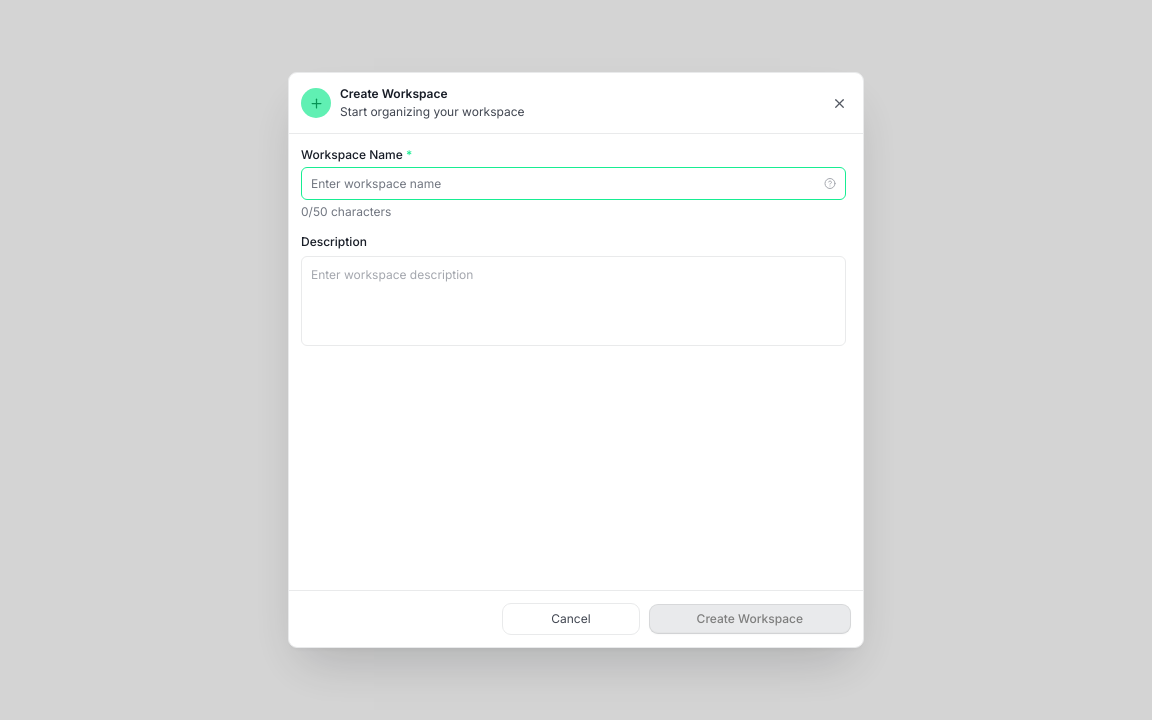
Test: CreateWorkspaceModal › form validation › shows validation error for short name
Type "AB" into the field labelled "Workspace Name *" at (573, 184), box [301,167,846,200]
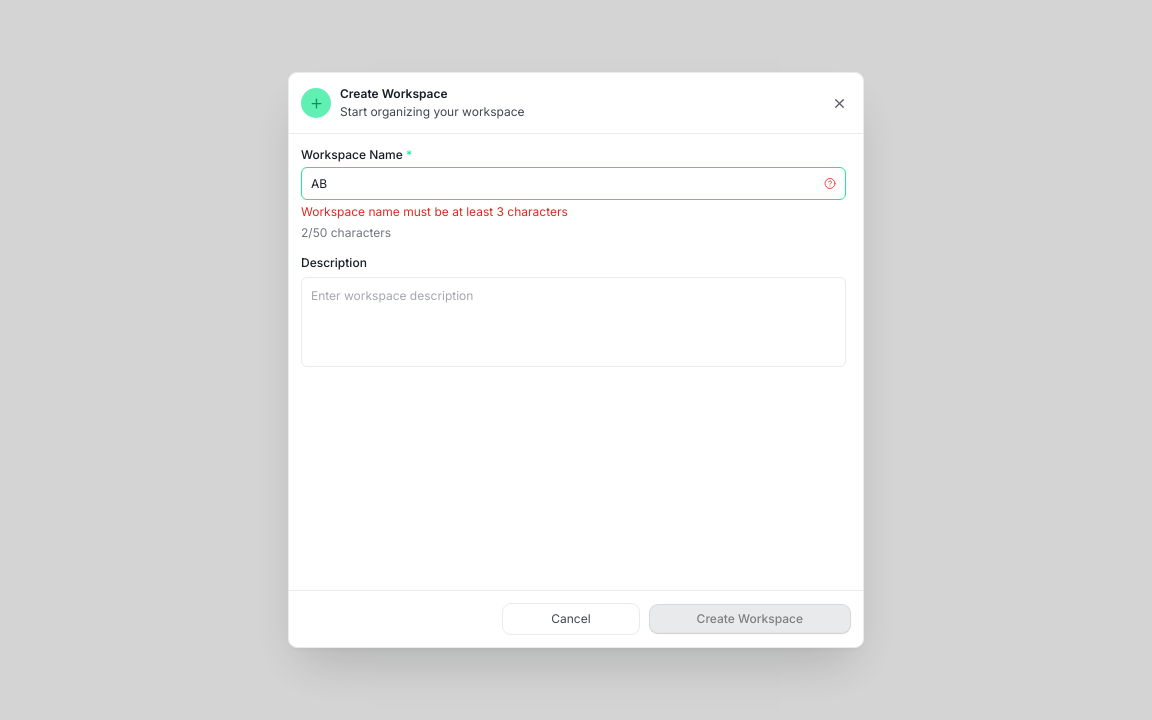
Expected: the text "Workspace name must be at least 3 characters" is shown, [301,204,568,219]
